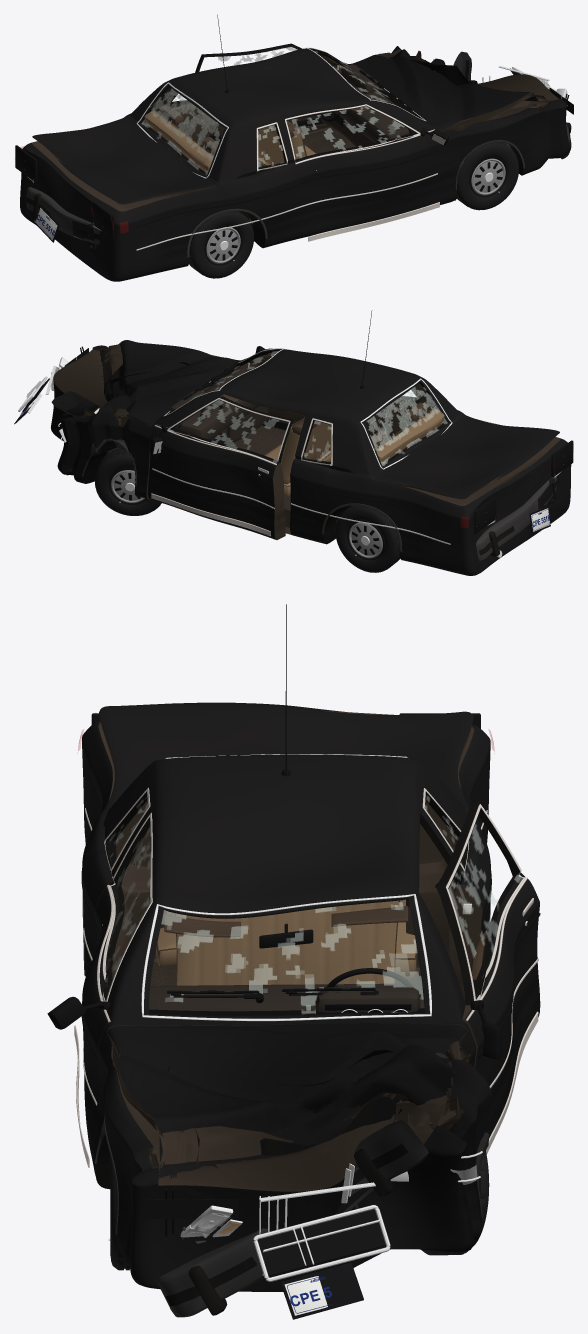
The model's file is coupe84_front_corner_d2.glb.
3 renders of one model, top to bottom at view 1: azimuth 30°, elevation 25°; view 2: azimuth 150°, elevation 25°; view 3: azimuth 270°, elevation 25°, orthographic. The views are drawn at different scales.
Parts seen in each view (by area): view 1: Body, Door_FR, Trunk, Hood, Interior, Glass, Wheel_RR_mesh, Wheel_FR_mesh, Trim_FR, Ends, Trim, Bumper_R (+3 smaller); view 2: Body, Door_FL, Trunk, Hood, Interior, Wheel_RL_mesh, Glass, Wheel_FL_mesh, Ends, Trim_FL, Bumper_R, Trim (+3 smaller); view 3: Body, Hood, Interior, Trunk, Ends, Door_FL, Bumper_F, Glass, Door_FR, Trim_FL, Trim, Trim_FR (+2 smaller).
Part boxes in pixels (x1,y1,x2,y2): Body: (20,46,569,281); Door_FR: (284,103,443,238); Trunk: (32,116,216,204); Hood: (351,49,550,131); Interior: (144,64,413,172); Glass: (136,47,426,178); Wheel_RR_mesh: (189,211,254,278); Wheel_FR_mesh: (456,142,518,210); Trim_FR: (284,104,448,241); Ends: (15,59,573,242); Trim: (136,14,525,257); Bumper_R: (25,187,102,249); Body: (50,345,571,575); Door_FL: (148,396,293,539); Trunk: (373,414,559,499); Hood: (100,340,238,427); Interior: (170,367,444,495); Wheel_RL_mesh: (335,505,400,572); Glass: (163,348,452,469); Wheel_FL_mesh: (95,448,161,515); Ends: (14,346,573,533); Trim_FL: (150,398,290,536); Bumper_R: (476,476,559,560); Trim: (82,310,450,551); Body: (82,720,492,1291); Hood: (107,1023,467,1179); Interior: (149,899,424,1012); Trunk: (99,702,473,810); Ends: (91,713,482,1319); Door_FL: (435,802,540,1138); Bumper_F: (158,1120,428,1317); Glass: (107,754,463,1021); Door_FR: (82,811,153,1162); Trim_FL: (446,804,540,1154); Trim: (81,604,491,1234); Trim_FR: (47,812,152,1167).
Size of the model in its own units: 5.31 by 2.19 by 2.18.
Materials: 34 (5 with a texture image).
